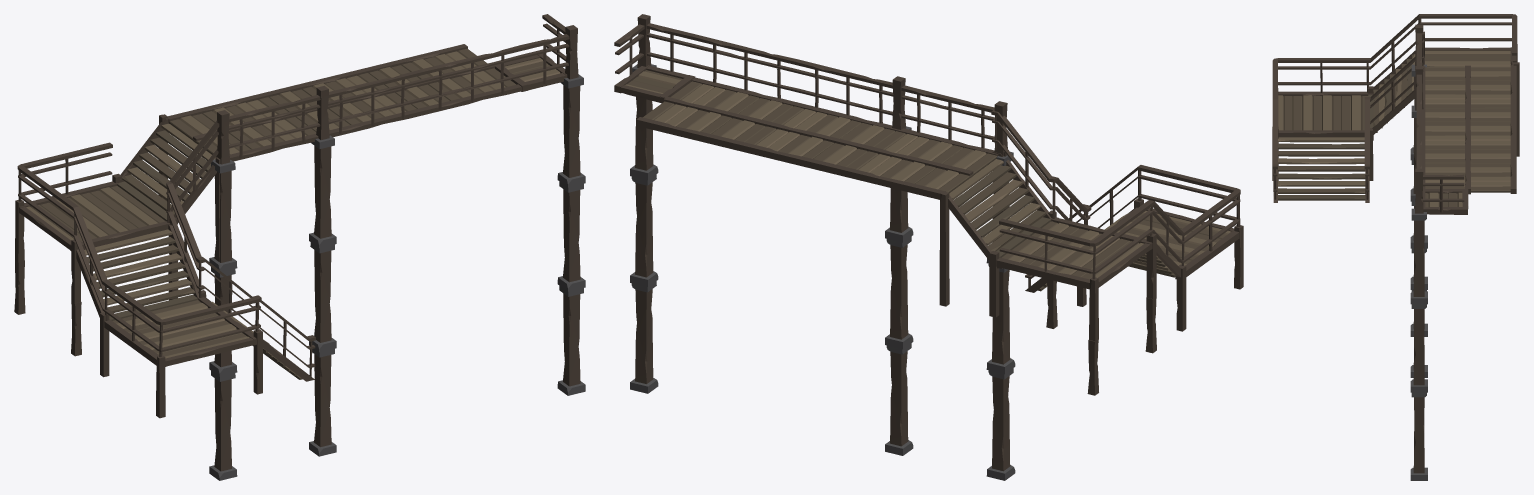
Rendered from SM_Bld_Preset_Tavern_01_Stairs_Optimized.glb.
3 renders of one model, left to right at view 1: azimuth 30°, elevation 25°; view 2: azimuth 150°, elevation 25°; view 3: azimuth 270°, elevation 25°, orthographic. The views are drawn at different scales.
Parts seen in each view (by area): view 1: SM_Bld_Preset_Tavern_01_Stairs_Optimized; view 2: SM_Bld_Preset_Tavern_01_Stairs_Optimized; view 3: SM_Bld_Preset_Tavern_01_Stairs_Optimized.
Boxes of the visible parts, left/top/right/bottom form: SM_Bld_Preset_Tavern_01_Stairs_Optimized: left=14, top=14, right=585, bottom=480; SM_Bld_Preset_Tavern_01_Stairs_Optimized: left=614, top=14, right=1243, bottom=480; SM_Bld_Preset_Tavern_01_Stairs_Optimized: left=1272, top=14, right=1519, bottom=480.
Size of the model in its own units: 12.75 by 8.7 by 6.35.
1 material, 1 textured.
